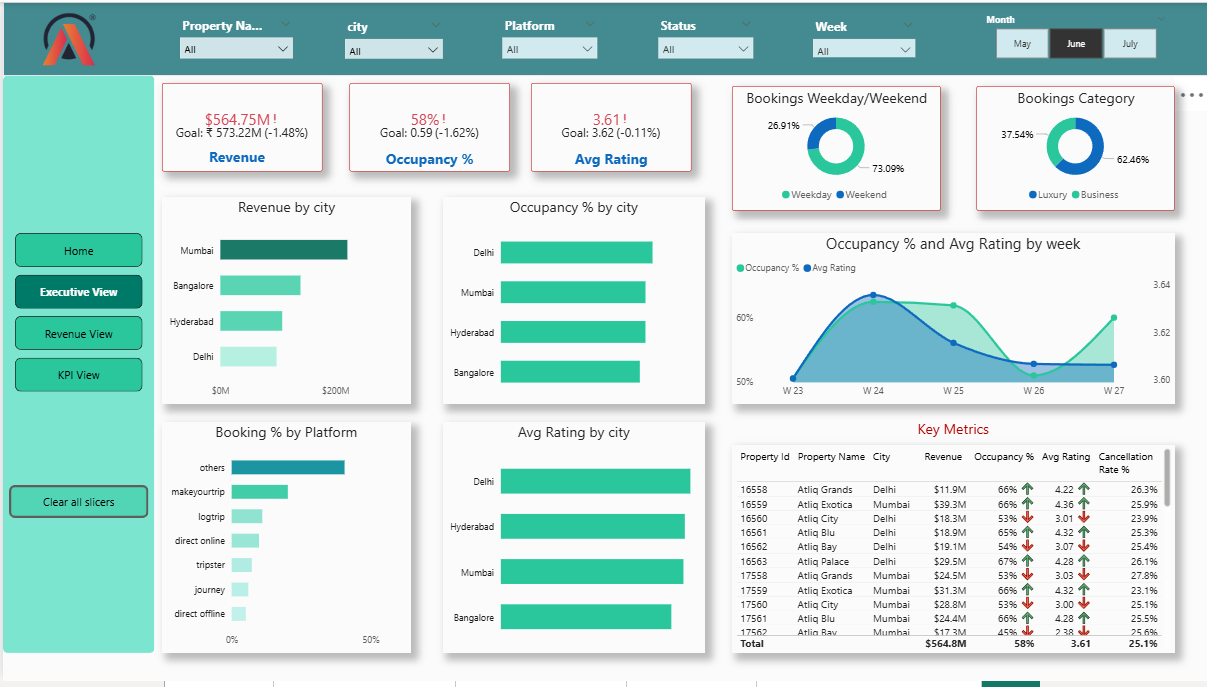

The dashboard page shown, as its layout file describes it:
{"tool":"powerbi","page":{"name":"Executive View","canvas":[1600,900],"ordinal":1},"visuals":[{"type":"shape","box":[0,0,1600.6,97.4],"z":0},{"type":"shape","box":[0,97.4,200.8,765.5],"z":1000},{"type":"kpi","fields":{"Goal":["Key Measures.Revenue LM"],"Indicator":["Key Measures.Revenue"],"TrendLine":["dim_date.Month no"]},"box":[210.8,107.4,212.7,117.3],"z":2000},{"type":"kpi","fields":{"Indicator":["Key Measures.Occupancy %"],"Goal":["Key Measures.Occupancy % PM"],"TrendLine":["dim_date.Month no"]},"box":[459.3,107.4,212.7,117.3],"z":3000},{"type":"kpi","fields":{"Indicator":["Key Measures.Avg Rating"],"TrendLine":["dim_date.Month no"],"Goal":["Key Measures.Avg Rating PM"]},"box":[699.9,107.4,212.7,117.3],"z":4000},{"type":"barChart","fields":{"Category":["dim_hotels.city"],"Y":["Key Measures.Revenue"]},"box":[210.8,258.5,330.1,274.4],"z":5000},{"type":"barChart","fields":{"Category":["dim_hotels.city"],"Y":["Key Measures.Occupancy %"]},"box":[582.6,258.5,347.9,274.4],"z":6000},{"type":"barChart","fields":{"Category":["dim_hotels.city"],"Y":["Key Measures.Avg Rating"]},"box":[582.6,556.7,347.9,306.2],"z":7000},{"type":"lineChart","title":"Occupancy % and Avg Rating by week","fields":{"Category":["dim_date.week no"],"Y2":["Key Measures.Avg Rating"],"Y":["Key Measures.Occupancy %"]},"box":[966.3,306.2,586.5,226.7],"z":8000},{"type":"tableEx","title":"Key Metricss","fields":{"Values":["dim_hotels.property_id","dim_hotels.property_name","dim_hotels.city","Key Measures.Revenue","Key Measures.Occupancy %","Key Measures.Avg Rating","Key Measures.Cancellation Rate %"]},"box":[966.3,586.5,586.5,276.4],"z":9000},{"type":"barChart","title":"Booking % by Platform","fields":{"Category":["fact_bookings.booking_platform"],"Y":["Key Measures.Booking %"]},"box":[210.8,556.7,330.1,306.2],"z":10000},{"type":"slicer","fields":{"Values":["dim_date.Month Name"]},"box":[1290.4,9.8,262.5,71.6],"z":11000},{"type":"image","box":[15.9,8,145.1,81.5],"z":12000},{"type":"slicer","fields":{"Values":["dim_hotels.property_name"]},"box":[224.7,13.9,169,63.6],"z":13000},{"type":"slicer","fields":{"Values":["dim_hotels.city"]},"box":[442.6,15.7,149.1,59.6],"z":14000},{"type":"slicer","fields":{"Values":["dim_date.Week_No"]},"box":[1063.7,15.9,155.1,57.7],"z":15000},{"type":"slicer","fields":{"Values":["fact_bookings.booking_status"]},"box":[858.5,13.8,145.1,63.6],"z":16000},{"type":"slicer","fields":{"Values":["fact_bookings.booking_platform"]},"box":[652.5,13.8,145.1,63.6],"z":17000},{"type":"donutChart","title":"Bookings  Weekday/Weekend","fields":{"Category":["dim_date.Weekday/Weekend"],"Y":["Key Measures.Total Bookings"]},"box":[966.3,111.3,276.4,165],"z":18000},{"type":"donutChart","title":"Bookings Category","fields":{"Y":["Key Measures.Total Bookings"],"Category":["dim_hotels.category"]},"box":[1290.4,111.3,262.5,165],"z":19000},{"type":"textbox","box":[254.5,186.9,111.3,43.7],"z":20000},{"type":"textbox","box":[459.3,188.9,212.7,43.7],"z":21000},{"type":"textbox","box":[699.9,188.9,212.7,41.8],"z":22000},{"type":"pageNavigator","box":[15.9,306.2,169,210.8],"z":23000},{"type":"textbox","box":[966.3,546.8,586.5,53.7],"z":24000},{"type":"actionButton","box":[8,640.2,184.9,43.7],"z":25000}]}

Visuals, with their boxes on the page's 1600x900 design canvas (x1, y1, x2, y2). These are canvas units, not pixel positions in the 1207x687 screenshot, which may show the page scaled, cropped or inside an application window:
shape: 0 0 1601 97
shape: 0 97 201 863
kpi - Key Measures.Revenue LM x Key Measures.Revenue: 211 107 424 225
kpi - Key Measures.Occupancy % x Key Measures.Occupancy % PM: 459 107 672 225
kpi - Key Measures.Avg Rating x dim_date.Month no: 700 107 913 225
barChart - dim_hotels.city x Key Measures.Revenue: 211 258 541 533
barChart - dim_hotels.city x Key Measures.Occupancy %: 583 258 930 533
barChart - dim_hotels.city x Key Measures.Avg Rating: 583 557 930 863
"Occupancy % and Avg Rating by week" lineChart: 966 306 1553 533
"Key Metricss" tableEx: 966 586 1553 863
"Booking % by Platform" barChart: 211 557 541 863
slicer - dim_date.Month Name: 1290 10 1553 81
image: 16 8 161 90
slicer - dim_hotels.property_name: 225 14 394 78
slicer - dim_hotels.city: 443 16 592 75
slicer - dim_date.Week_No: 1064 16 1219 74
slicer - fact_bookings.booking_status: 858 14 1004 77
slicer - fact_bookings.booking_platform: 652 14 798 77
"Bookings  Weekday/Weekend" donutChart: 966 111 1243 276
"Bookings Category" donutChart: 1290 111 1553 276
textbox: 254 187 366 231
textbox: 459 189 672 233
textbox: 700 189 913 231
pageNavigator: 16 306 185 517
textbox: 966 547 1553 600
actionButton: 8 640 193 684
